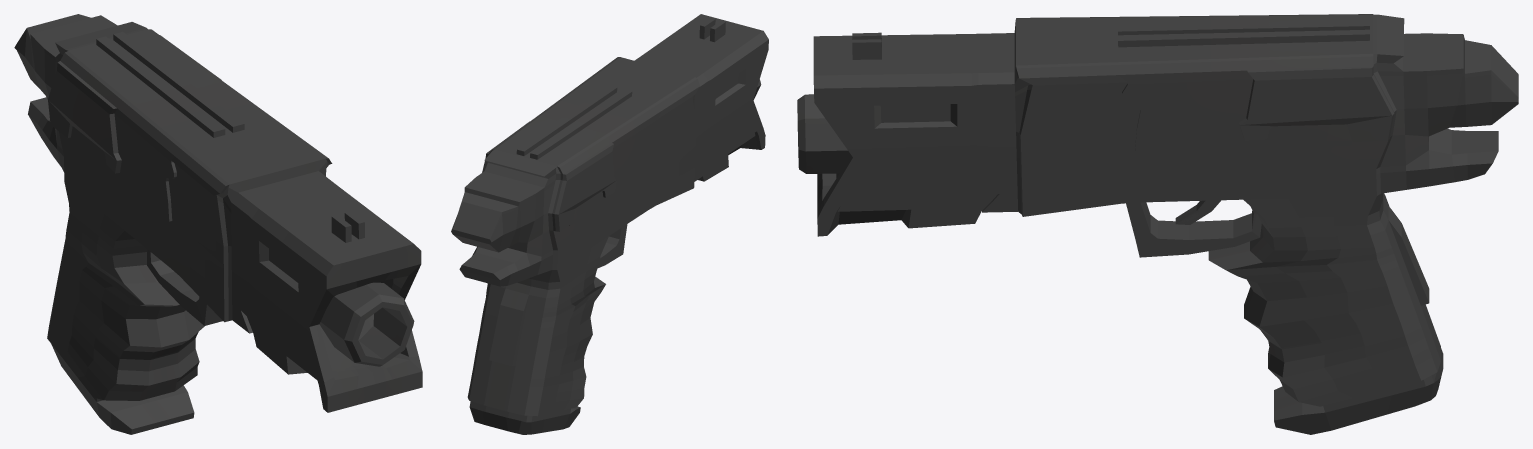
The model's file is sidearm2.fbx.
The picture shows the model from 3 angles, left to right: view 1: azimuth 30°, elevation 25°; view 2: azimuth 150°, elevation 25°; view 3: azimuth 270°, elevation 25°; orthographic projection. The views are drawn at different scales.
Visible parts, largest first — view 1: Cube.002; view 2: Cube.002; view 3: Cube.002.
Part boxes in pixels (x1,y1,x2,y2): Cube.002: (14,14,422,434); Cube.002: (451,14,768,434); Cube.002: (797,14,1518,434).
Bounding box in the file's own units: 5.72 × 17.77 × 29.99.
